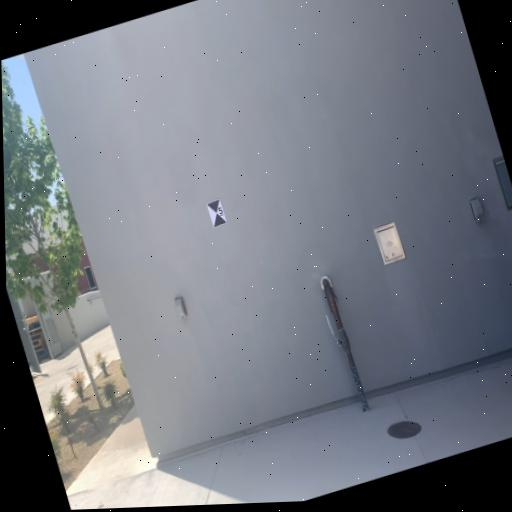target5: (206, 199, 228, 228)
